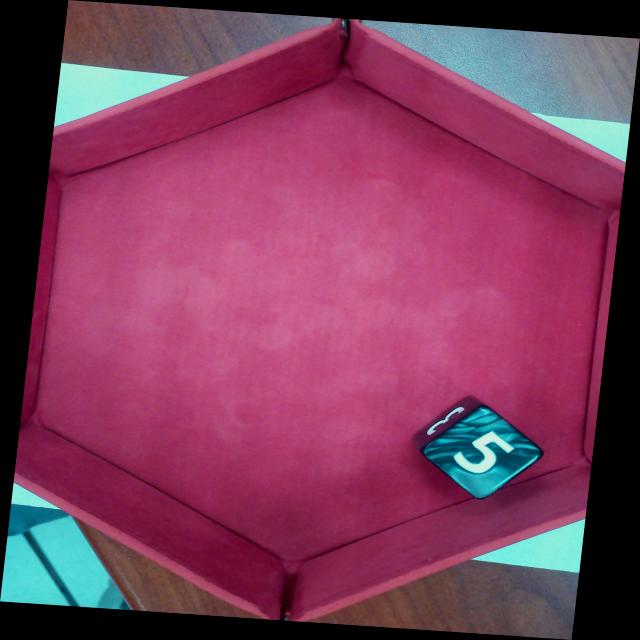dice: (432, 410, 541, 497)
